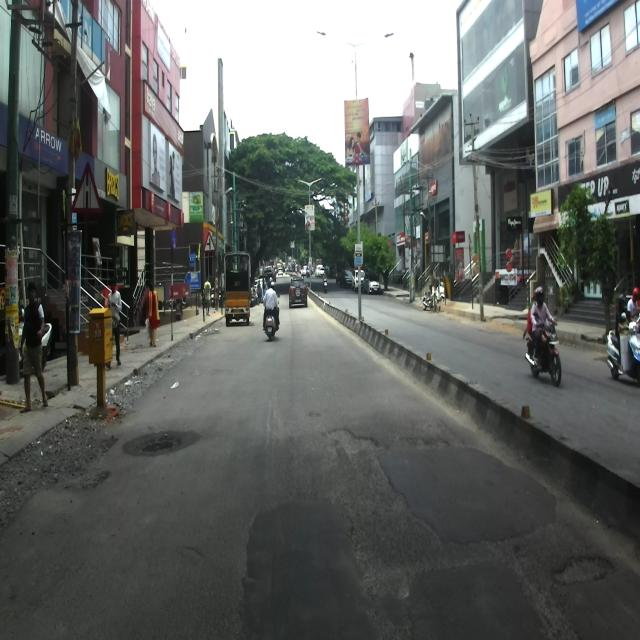barrier ahead at: (85, 297, 116, 412)
electric pole ahead at: (58, 0, 92, 399)
person ahead at: (14, 281, 54, 418), (103, 278, 129, 367)
